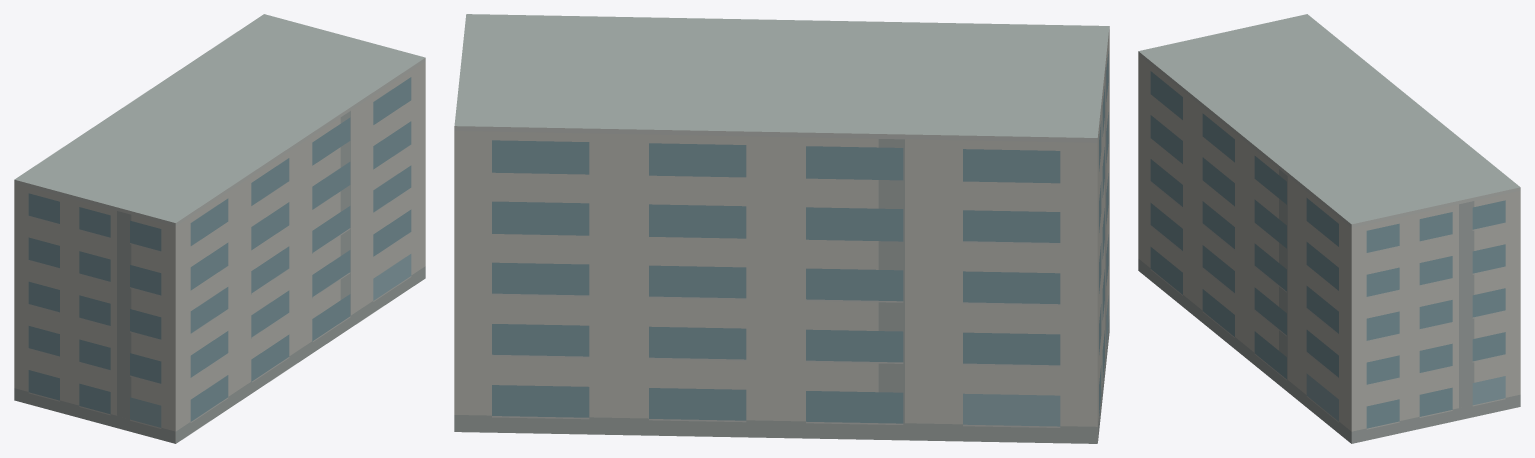
Rendered from residential-11b3782a-1416-40cd-8d96-95e61b1c1708.glb.
3 renders of one model, left to right at view 1: azimuth 30°, elevation 25°; view 2: azimuth 150°, elevation 25°; view 3: azimuth 270°, elevation 25°, orthographic. The views are drawn at different scales.
Parts seen in each view (by area): view 1: residential-11b3782a-1416-40cd-8d96-95e61b1c1708.tmp; view 2: residential-11b3782a-1416-40cd-8d96-95e61b1c1708.tmp; view 3: residential-11b3782a-1416-40cd-8d96-95e61b1c1708.tmp.
Boxes of the visible parts, x1,y1,x2,y2 form: residential-11b3782a-1416-40cd-8d96-95e61b1c1708.tmp: (14,14,425,443); residential-11b3782a-1416-40cd-8d96-95e61b1c1708.tmp: (454,14,1109,443); residential-11b3782a-1416-40cd-8d96-95e61b1c1708.tmp: (1138,14,1520,443).
Size of the model in its own units: 31.35 by 15.25 by 24.08.
